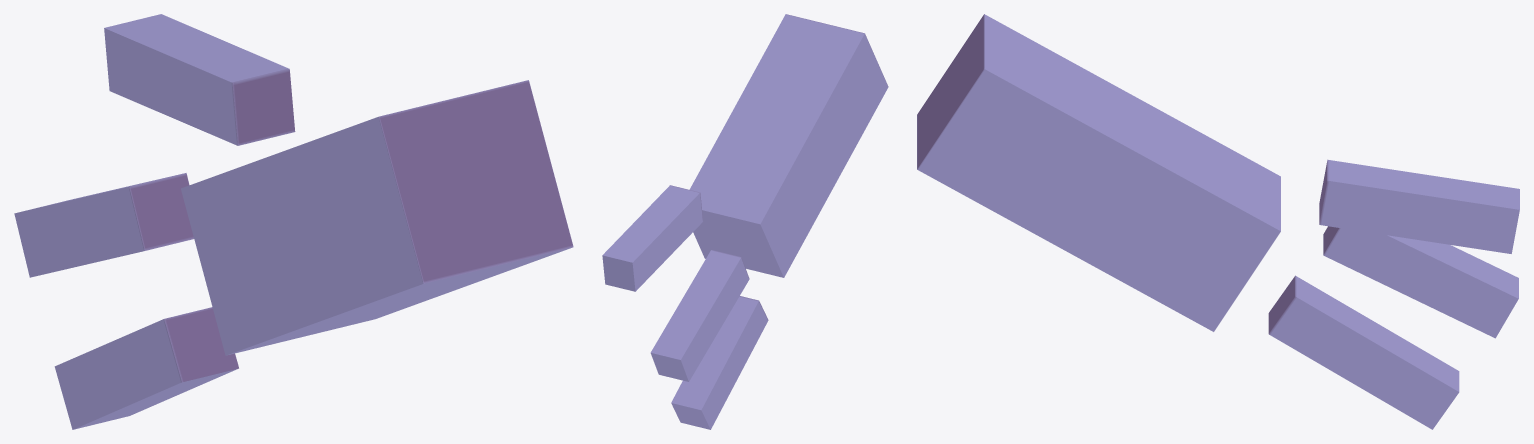
Rendered from gea_left_arm_full.glb.
The picture shows the model from 3 angles, left to right: view 1: azimuth 30°, elevation 25°; view 2: azimuth 150°, elevation 25°; view 3: azimuth 270°, elevation 25°; orthographic projection. The views are drawn at different scales.
Visible parts, largest first — view 1: gea_arm_left, gea_finger2_left, gea_finger3_left, gea_finger1_left; view 2: gea_arm_left, gea_finger1_left, gea_finger2_left, gea_finger3_left; view 3: gea_arm_left, gea_finger2_left, gea_finger3_left, gea_finger1_left.
Boxes of the visible parts, <box> form: gea_arm_left: <box>181,80,573,355</box>; gea_finger2_left: <box>104,14,295,145</box>; gea_finger3_left: <box>54,307,238,429</box>; gea_finger1_left: <box>14,173,193,277</box>; gea_arm_left: <box>689,14,888,277</box>; gea_finger1_left: <box>650,250,749,381</box>; gea_finger2_left: <box>602,185,703,291</box>; gea_finger3_left: <box>671,296,768,429</box>; gea_arm_left: <box>917,14,1280,331</box>; gea_finger2_left: <box>1319,159,1519,253</box>; gea_finger3_left: <box>1268,275,1459,429</box>; gea_finger1_left: <box>1323,226,1518,338</box>.
Size of the model in its own units: 0.557 by 1.79 by 2.46.
1 material, 1 textured.
